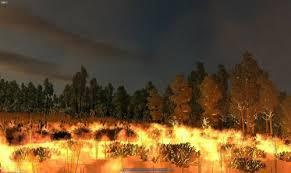fire: (43, 103, 290, 169)
